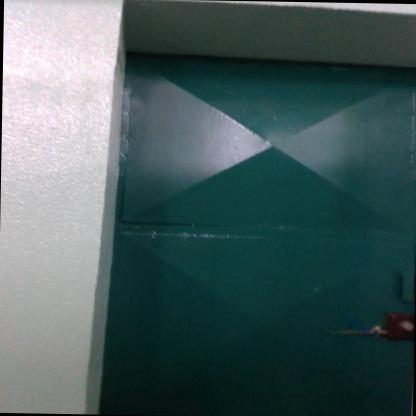closed: (78, 19, 415, 415)
